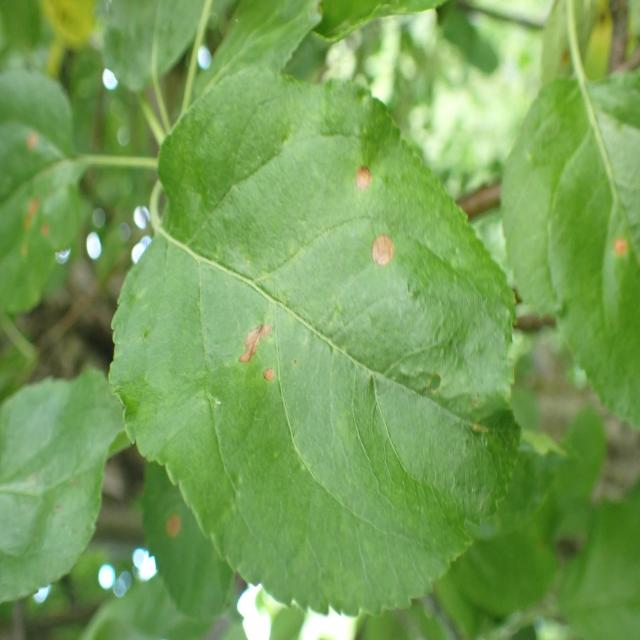Black Rot: (363, 219, 405, 290), (234, 318, 277, 368), (349, 144, 379, 210), (162, 499, 194, 556), (591, 228, 633, 270), (258, 354, 280, 410)
